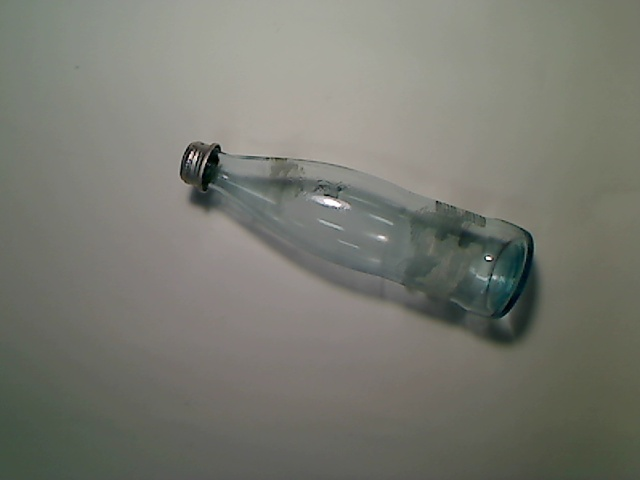bottle: (179, 139, 534, 321)
